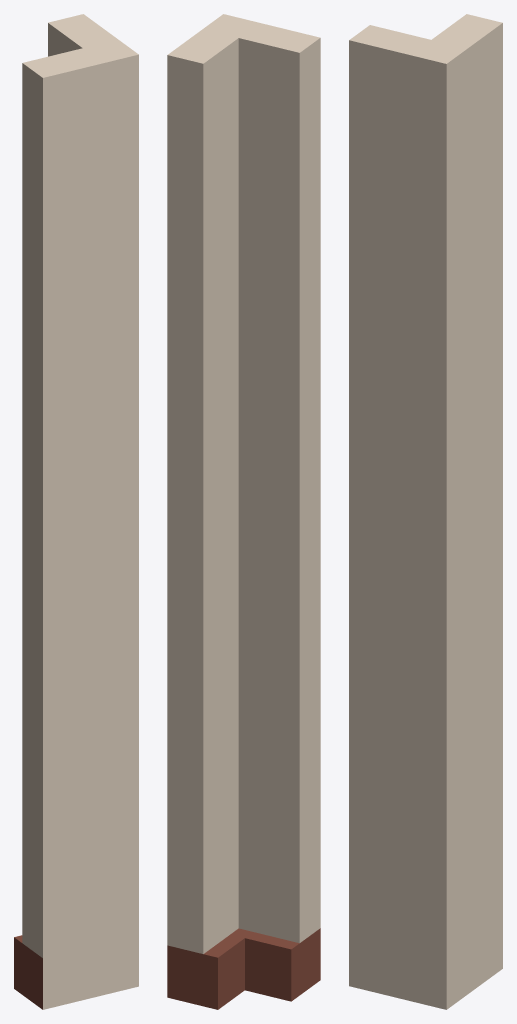
File: Wall_corner_01.fbx
3 views of the same model, side by side, from view 1: azimuth 30°, elevation 25°; view 2: azimuth 150°, elevation 25°; view 3: azimuth 330°, elevation 25° (orthographic).
Parts seen in each view (by area): view 1: Cube.023; view 2: Cube.023; view 3: Cube.023.
Boxes of the visible parts, <box> form: Cube.023: <box>14,14,138,1009</box>; Cube.023: <box>167,14,320,1009</box>; Cube.023: <box>349,14,502,1009</box>.
Size of the model in its own units: 0.6739 by 0.6739 by 6.25.
